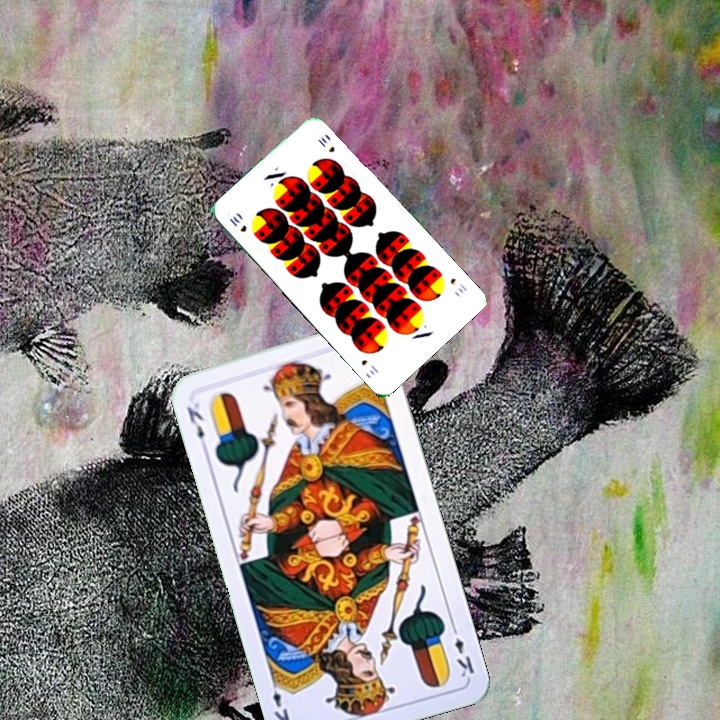EK: (447, 621, 477, 680), (182, 398, 211, 454)
S10: (225, 212, 249, 235), (446, 274, 470, 296)
